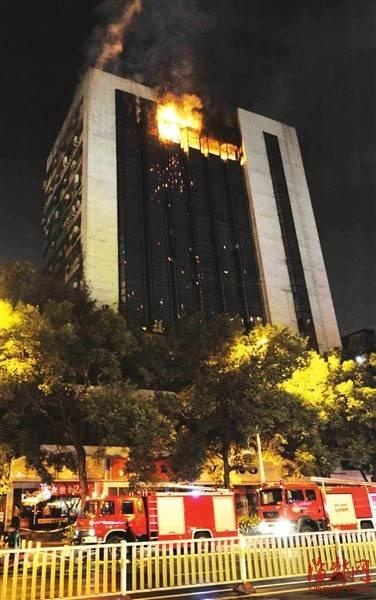fire: (150, 91, 244, 167)
